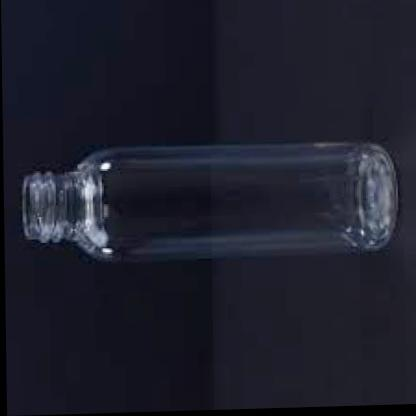trash: (22, 143, 397, 261)
